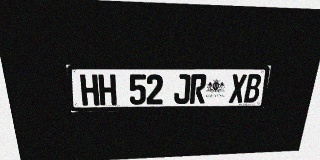2: (147, 74, 163, 105)
5: (129, 74, 146, 105)
B: (244, 74, 262, 103)
H: (80, 74, 99, 106), (98, 74, 117, 105)
J: (174, 74, 191, 104)
R: (189, 74, 207, 104)
X: (229, 74, 247, 103)
